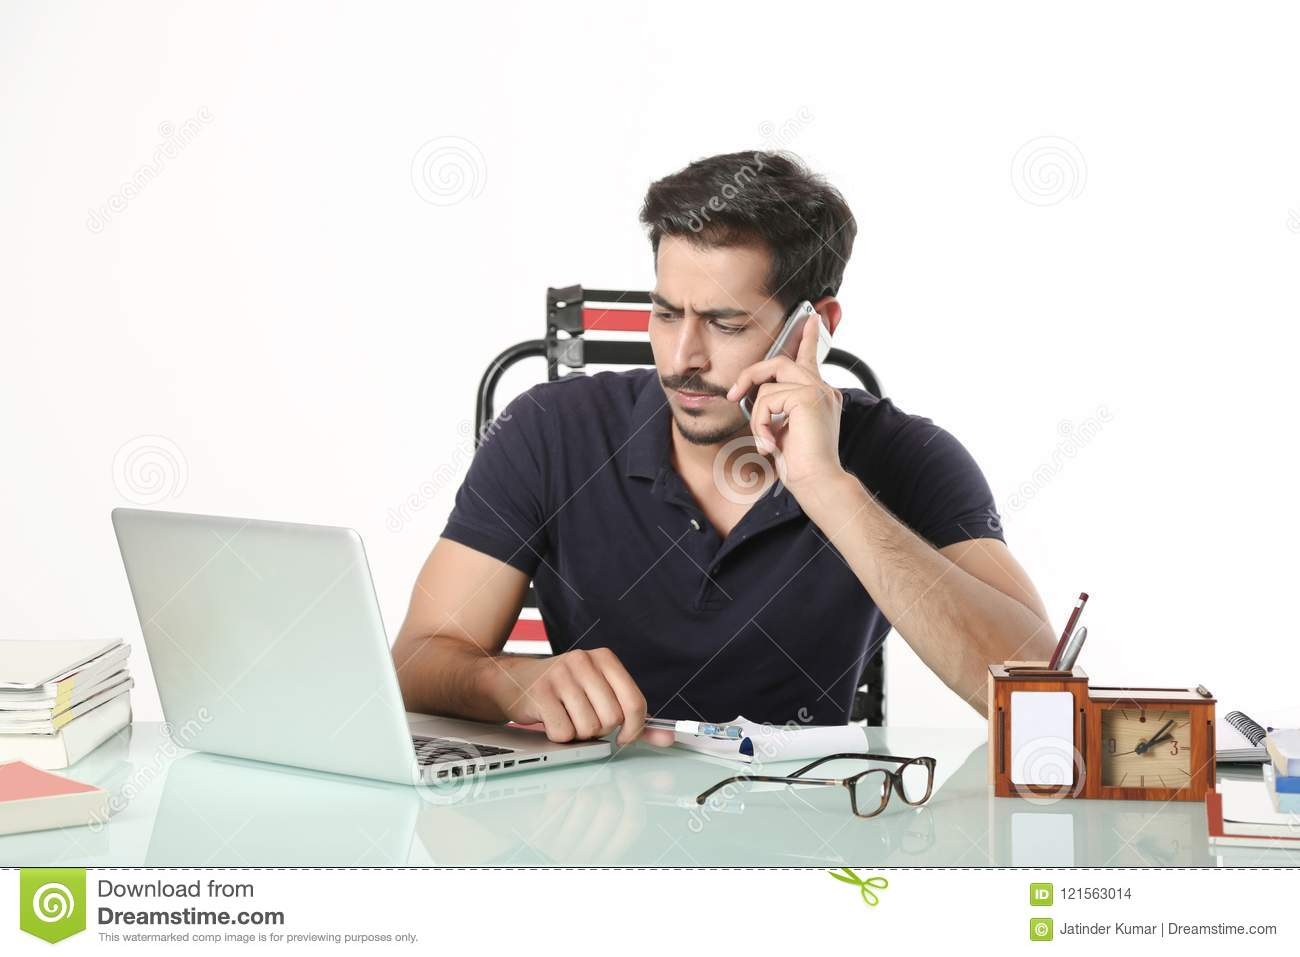phone: (739, 302, 835, 441)
talk: (645, 285, 849, 507)
